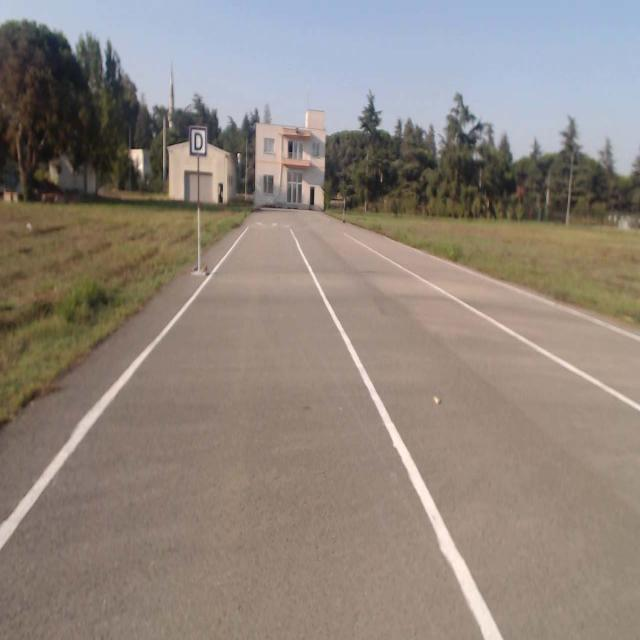durak: (189, 125, 207, 156)
